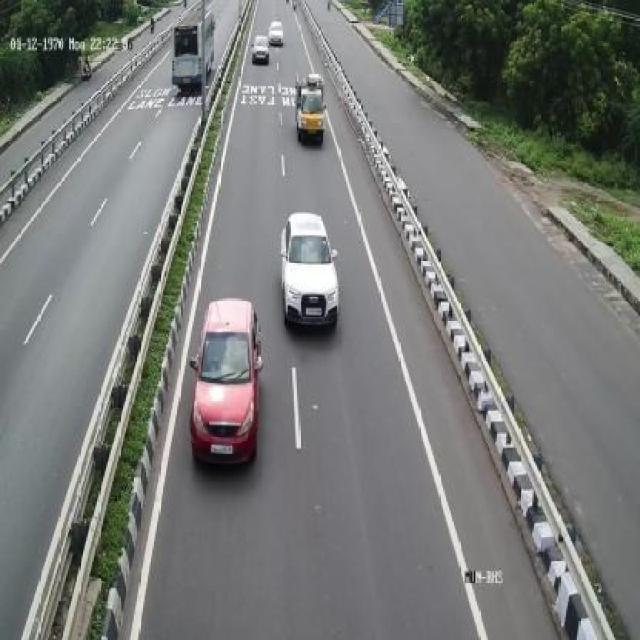car: (188, 291, 264, 475), (282, 208, 340, 338), (296, 68, 330, 149), (252, 24, 276, 68)
